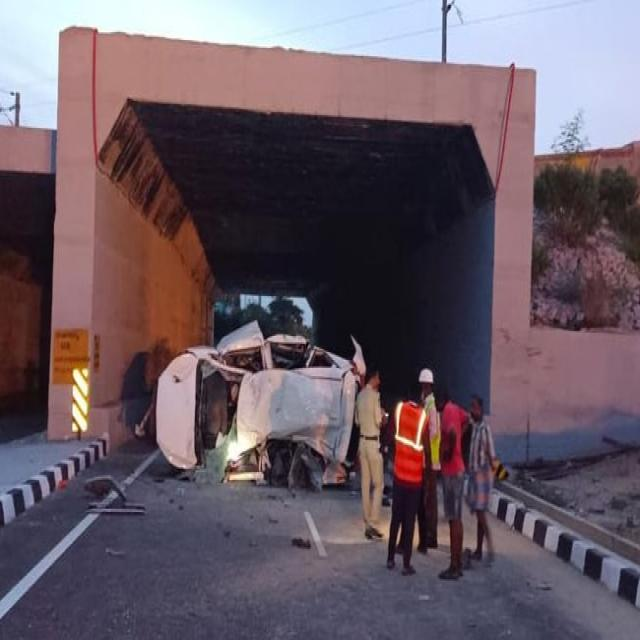accident: (156, 323, 365, 489)
